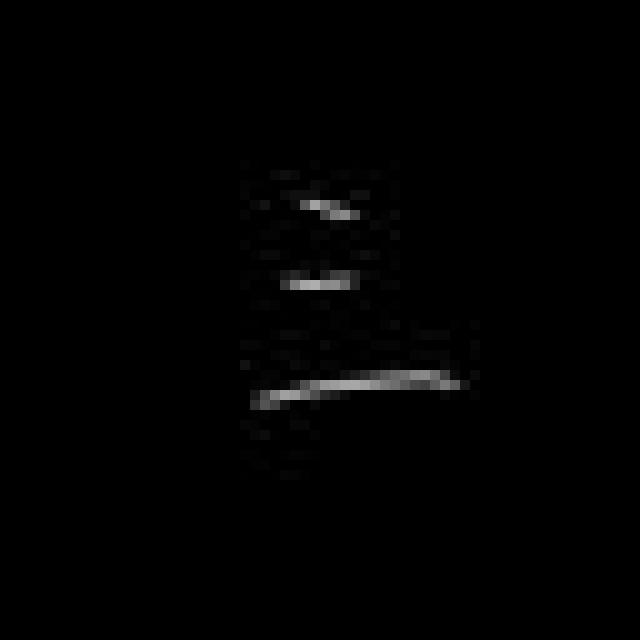3 -three-: (234, 186, 484, 427)
